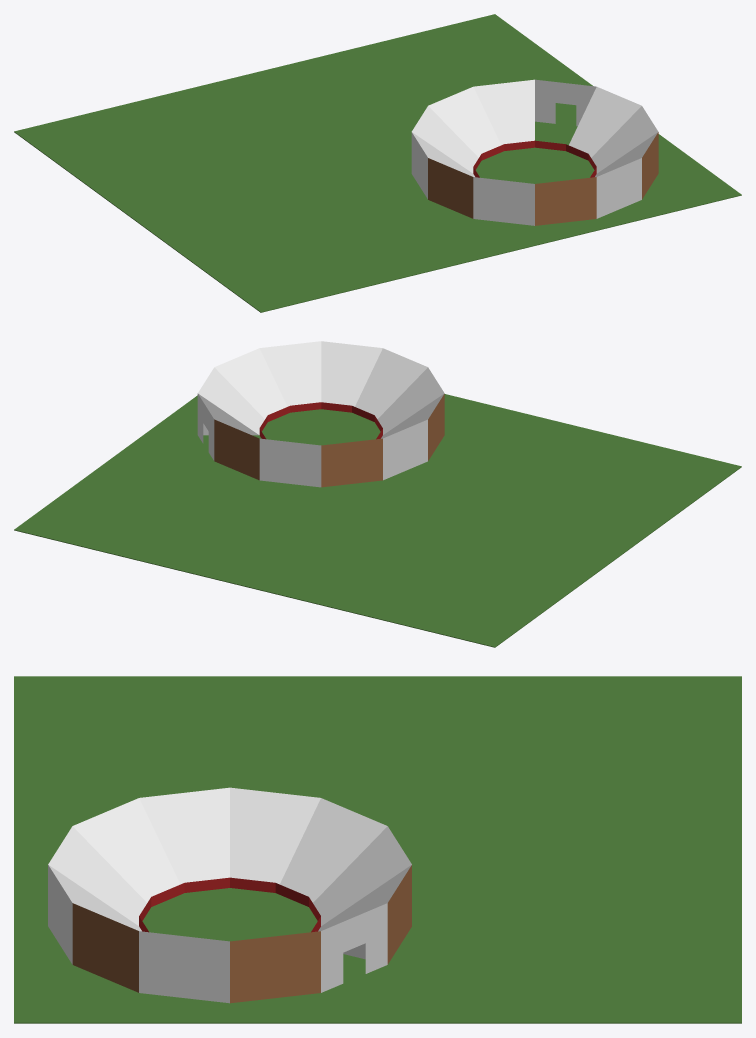
File: arena.glb
The picture shows the model from 3 angles, top to bottom: view 1: azimuth 30°, elevation 25°; view 2: azimuth 150°, elevation 25°; view 3: azimuth 270°, elevation 25°; orthographic projection. The views are drawn at different scales.
Parts seen in each view (by area): view 1: Ground, Circle; view 2: Ground, Circle; view 3: Ground, Circle.
Boxes of the visible parts, x1=… form: Ground: x1=14, y1=14, x2=741, y2=312; Circle: x1=411, y1=79, x2=658, y2=225; Ground: x1=14, y1=394, x2=741, y2=647; Circle: x1=197, y1=341, x2=444, y2=487; Ground: x1=14, y1=676, x2=741, y2=1023; Circle: x1=48, y1=787, x2=411, y2=1003.
Size of the model in its own units: 72 by 6.1 by 64.
